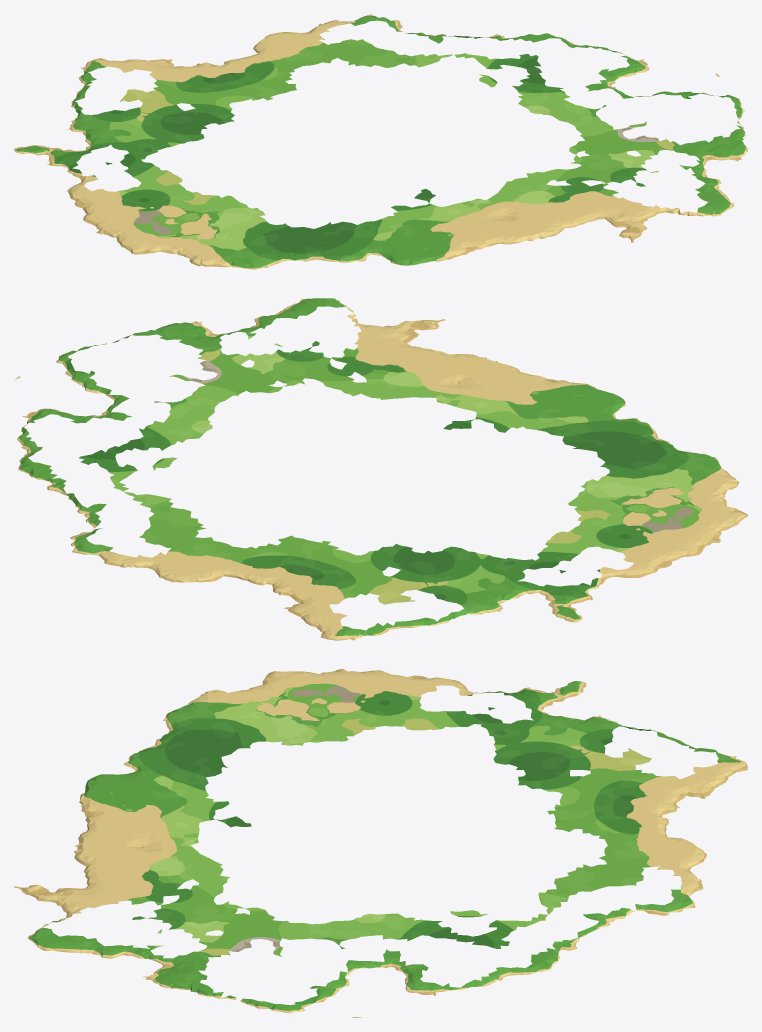
Rendered from Isl-hilly4-Ground.fbx.
3 renders of one model, top to bottom at view 1: azimuth 30°, elevation 25°; view 2: azimuth 150°, elevation 25°; view 3: azimuth 270°, elevation 25°, orthographic. The views are drawn at different scales.
Visible parts, largest first — view 1: Isl-hilly4-Ground-c11, Isl-hilly4-Ground-c21, Isl-hilly4-Ground-c12, Isl-hilly4-Ground-c22; view 2: Isl-hilly4-Ground-c12, Isl-hilly4-Ground-c11, Isl-hilly4-Ground-c21, Isl-hilly4-Ground-c22, Isl-hilly4-Ground-c31; view 3: Isl-hilly4-Ground-c21, Isl-hilly4-Ground-c11, Isl-hilly4-Ground-c12, Isl-hilly4-Ground-c22, Isl-hilly4-Ground-c31.
Part boxes in pixels (x1,y1,x2,y2): Isl-hilly4-Ground-c11: (88, 192, 490, 269); Isl-hilly4-Ground-c21: (421, 91, 747, 245); Isl-hilly4-Ground-c12: (14, 58, 285, 222); Isl-hilly4-Ground-c22: (240, 14, 647, 112); Isl-hilly4-Ground-c12: (248, 517, 702, 640); Isl-hilly4-Ground-c11: (454, 375, 747, 550); Isl-hilly4-Ground-c21: (79, 298, 530, 429); Isl-hilly4-Ground-c22: (17, 405, 303, 582); Isl-hilly4-Ground-c31: (14, 331, 150, 384); Isl-hilly4-Ground-c21: (14, 822, 370, 990); Isl-hilly4-Ground-c11: (79, 669, 371, 825); Isl-hilly4-Ground-c12: (368, 670, 747, 826); Isl-hilly4-Ground-c22: (368, 822, 706, 991); Isl-hilly4-Ground-c31: (190, 986, 362, 1017).
Bounding box in the file's own units: 112 × 0.4899 × 99.3.
